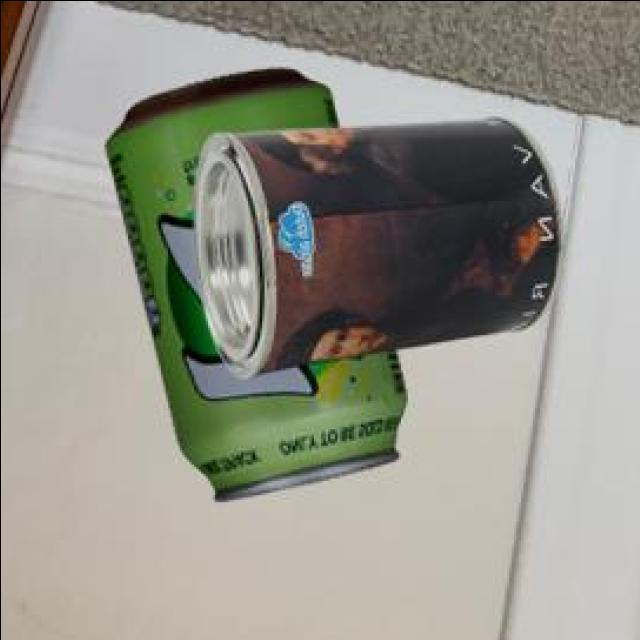logam: (102, 72, 401, 502), (189, 121, 559, 380)
